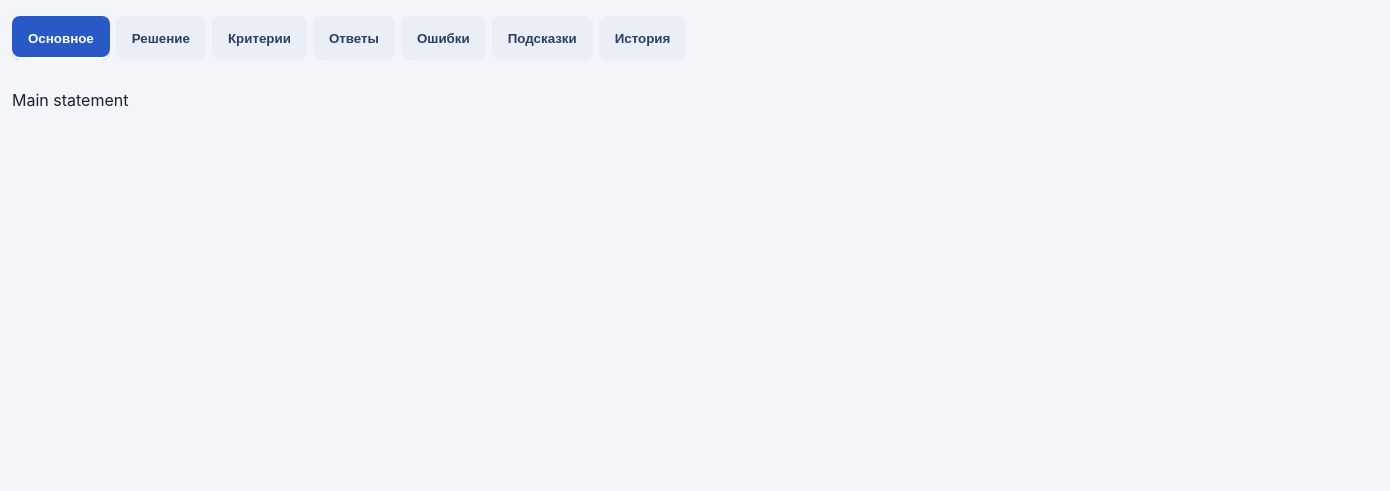
Test: editor › saves every block regardless of active tab and uses response
Click the tab "Подсказки" at (542,38), box [492,16,593,60]
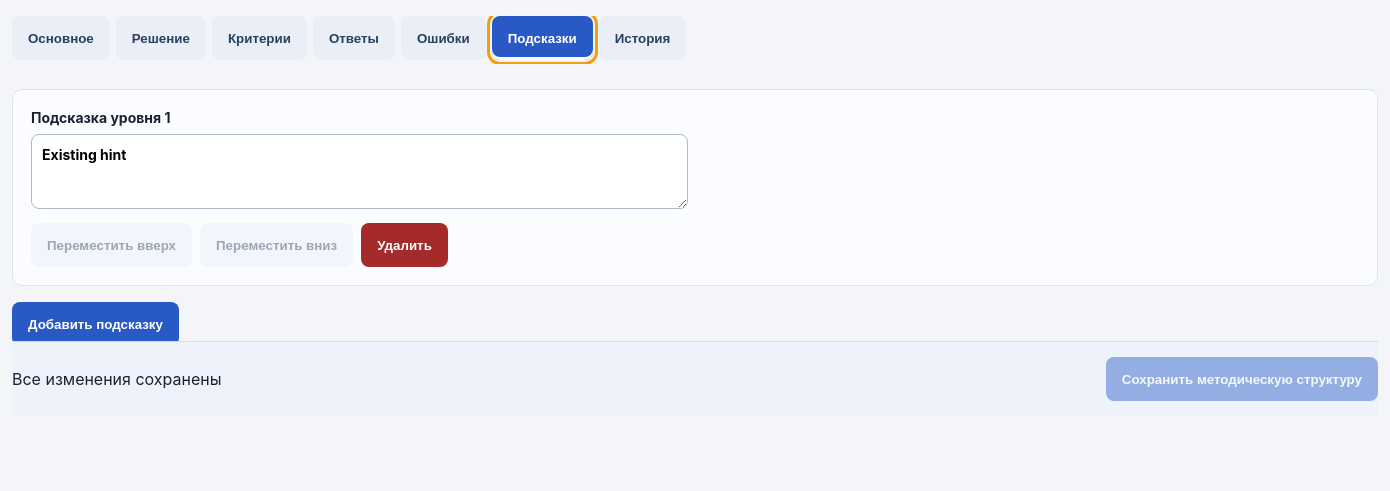
Type " updated" into the text box showing "Existing hint" at (360,172), box [31,134,688,209]
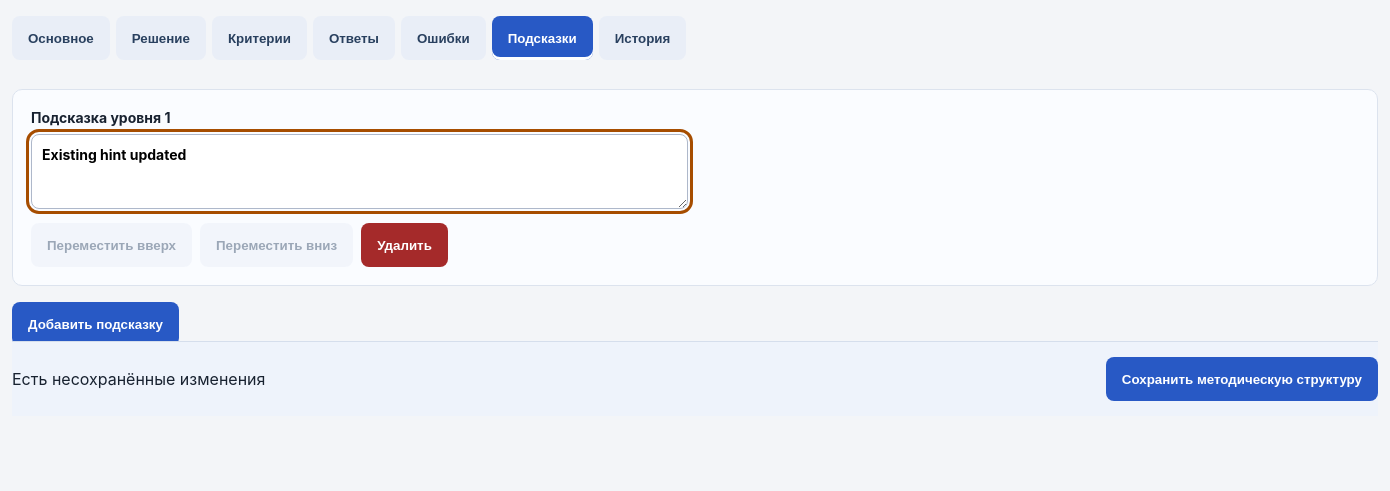
Click the button "Сохранить методическую структуру" at (1242,379), box [1106,357,1378,401]
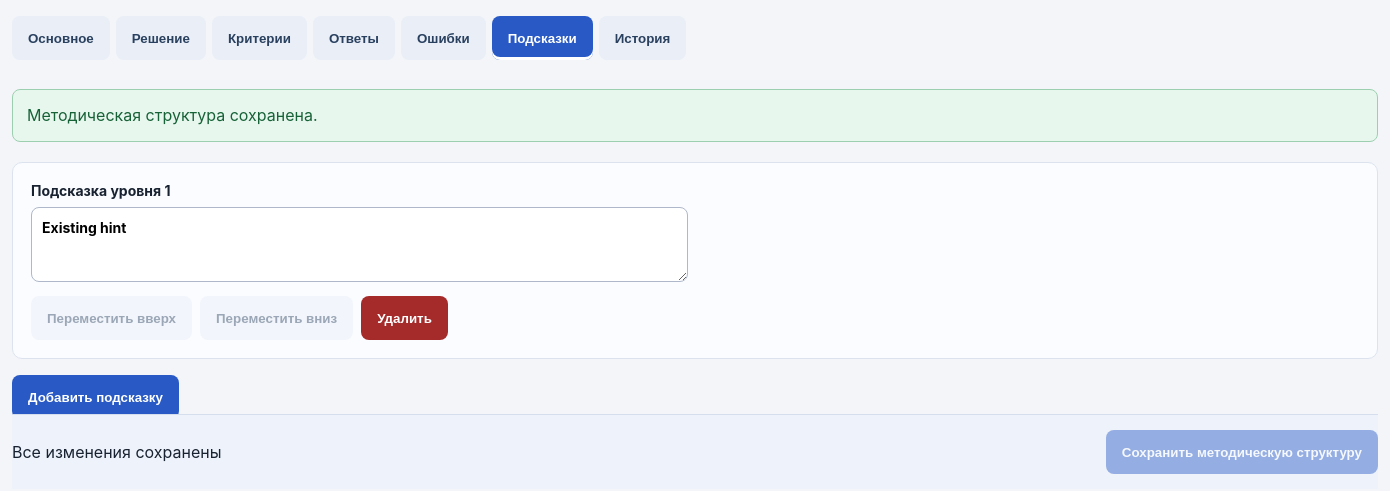
Expected: the text "Методическая структура сохранена." is shown, [12,89,1378,142]
